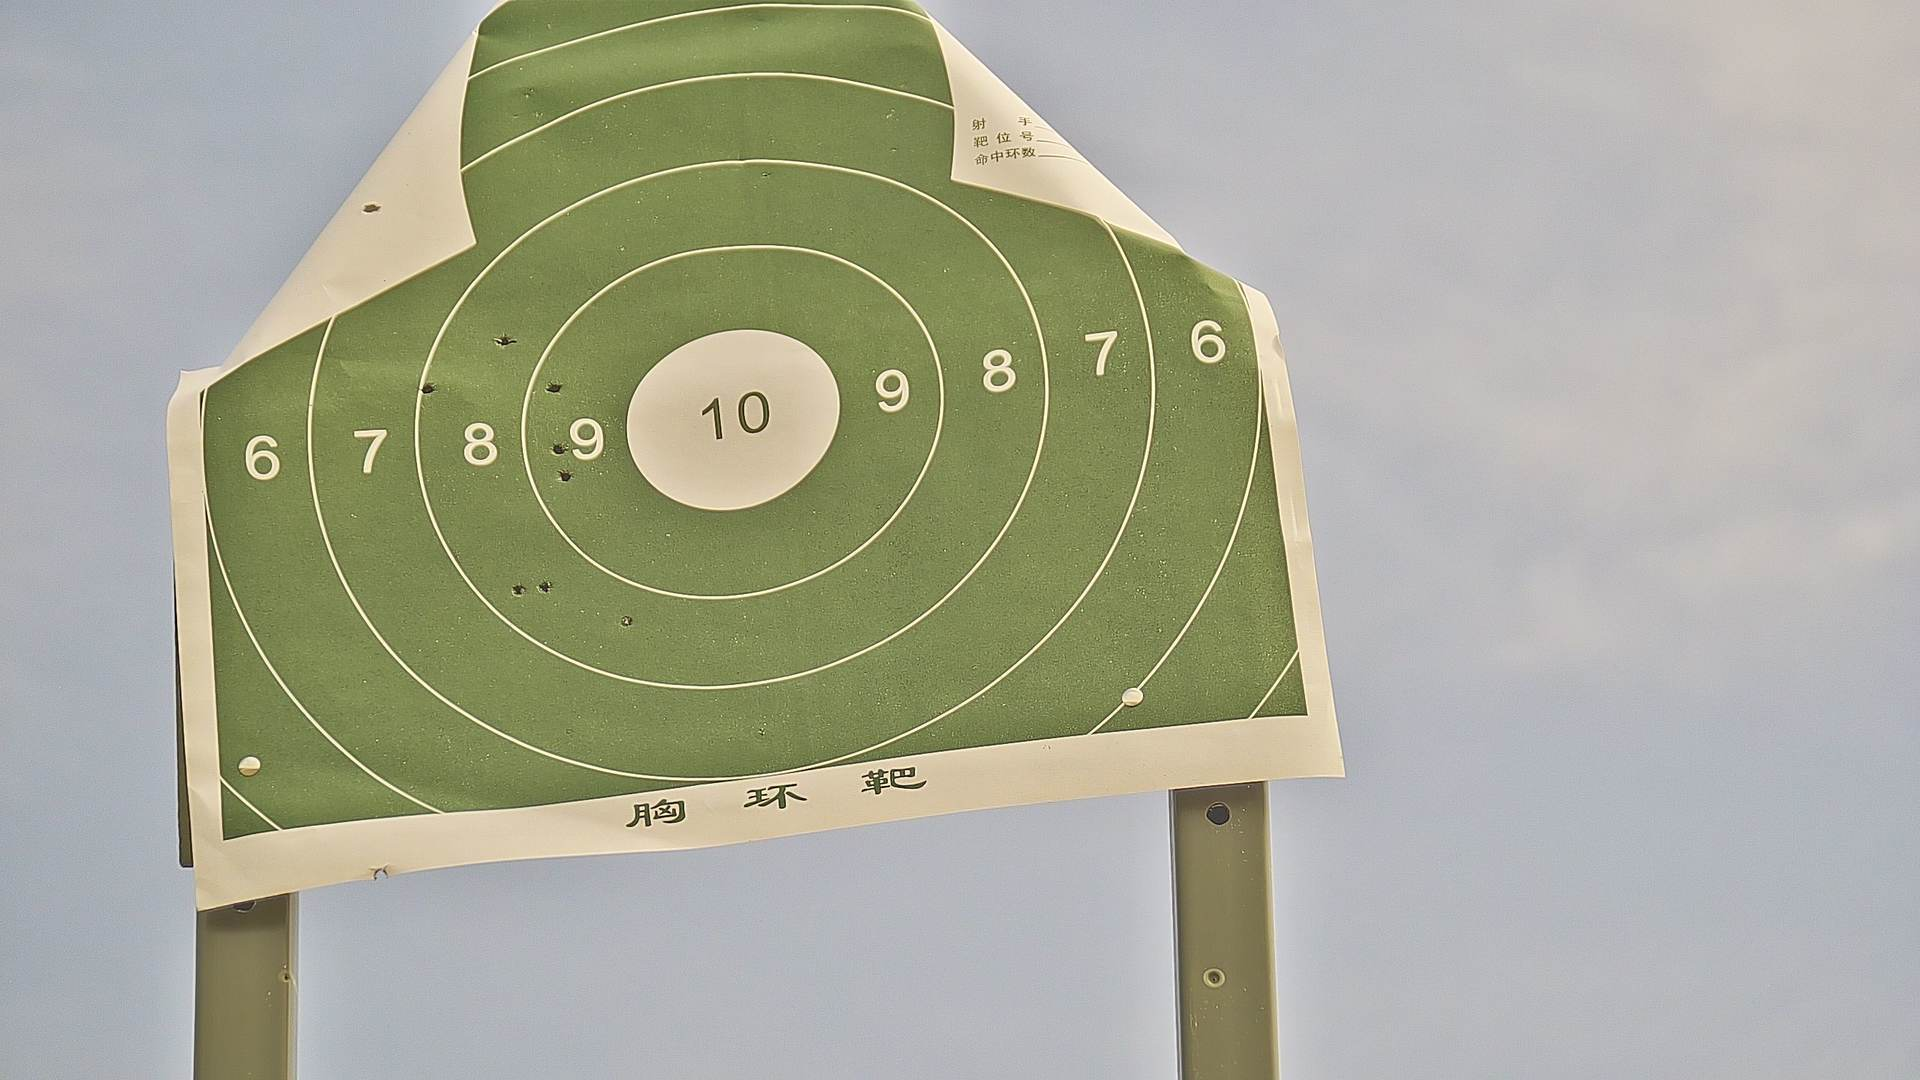hole: (559, 468, 574, 484), (546, 382, 562, 394), (553, 443, 568, 455), (618, 615, 634, 626), (422, 382, 435, 396), (539, 582, 553, 593), (498, 335, 510, 344), (512, 585, 524, 595)
kernel: (731, 414, 732, 421)
target: (196, 3, 1309, 852)
ten: (626, 328, 843, 513)
